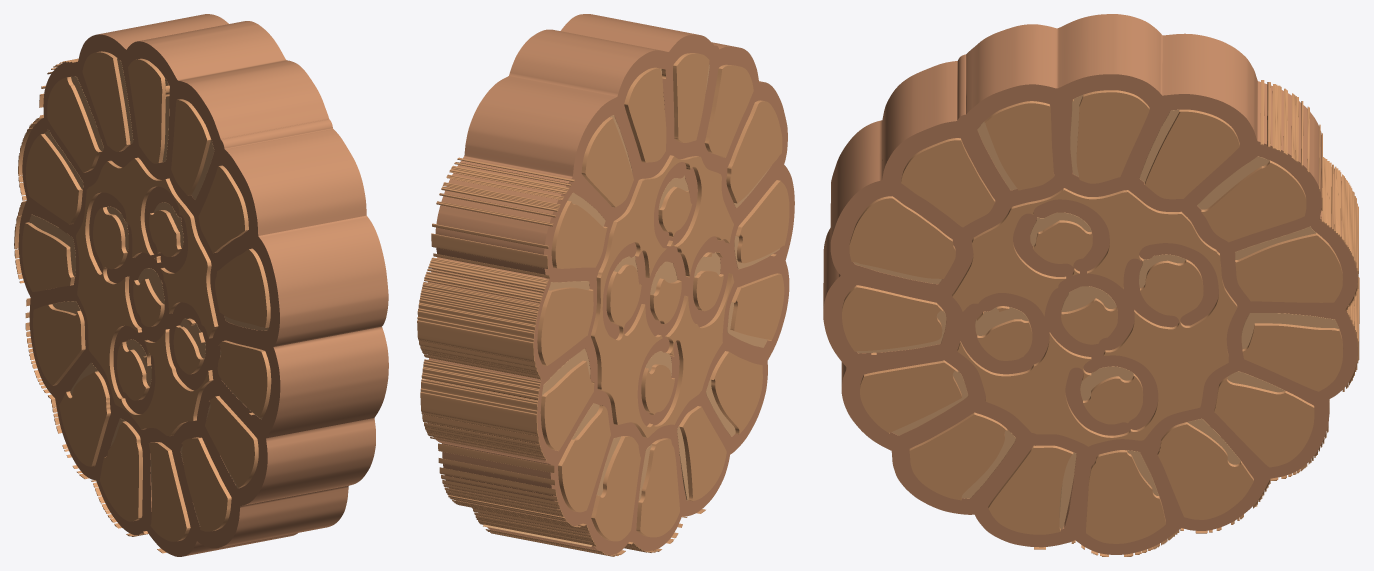
Rendered from Yakgya.fbx.
The picture shows the model from 3 angles, left to right: view 1: azimuth 30°, elevation 25°; view 2: azimuth 150°, elevation 25°; view 3: azimuth 270°, elevation 25°; orthographic projection. The views are drawn at different scales.
Parts seen in each view (by area): view 1: Curve, Curve.004, Curve.001; view 2: Curve.004, Curve, Curve.001; view 3: Curve.004, Curve, Curve.001.
Boxes of the visible parts, x1,y1,x2,y2 form: Curve: [18, 14, 388, 556]; Curve.004: [14, 51, 271, 553]; Curve.001: [29, 58, 268, 526]; Curve.004: [417, 53, 789, 556]; Curve: [426, 14, 794, 555]; Curve.001: [483, 64, 779, 546]; Curve.004: [842, 80, 1359, 556]; Curve: [823, 14, 1357, 554]; Curve.001: [853, 95, 1338, 529].
Size of the model in its own units: 53.76 by 180 by 175.
